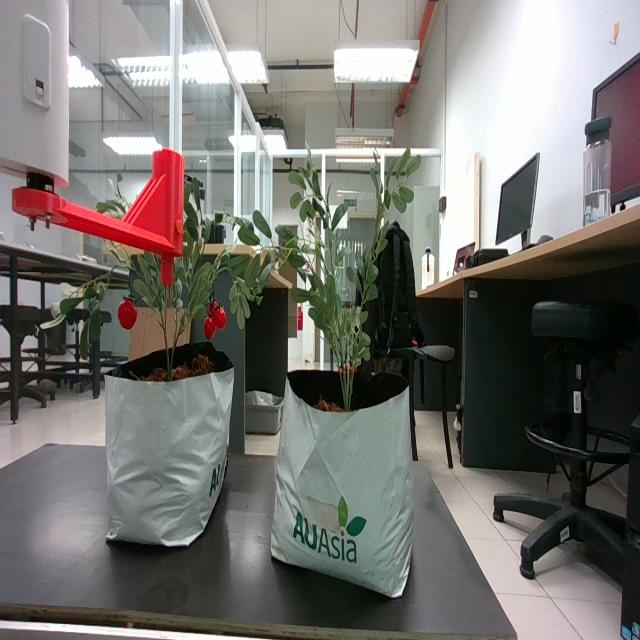EndEffector: (0, 0, 185, 286)
Soilbag: (268, 371, 415, 601), (104, 347, 236, 552)
plant: (207, 141, 409, 412), (62, 176, 279, 341)
